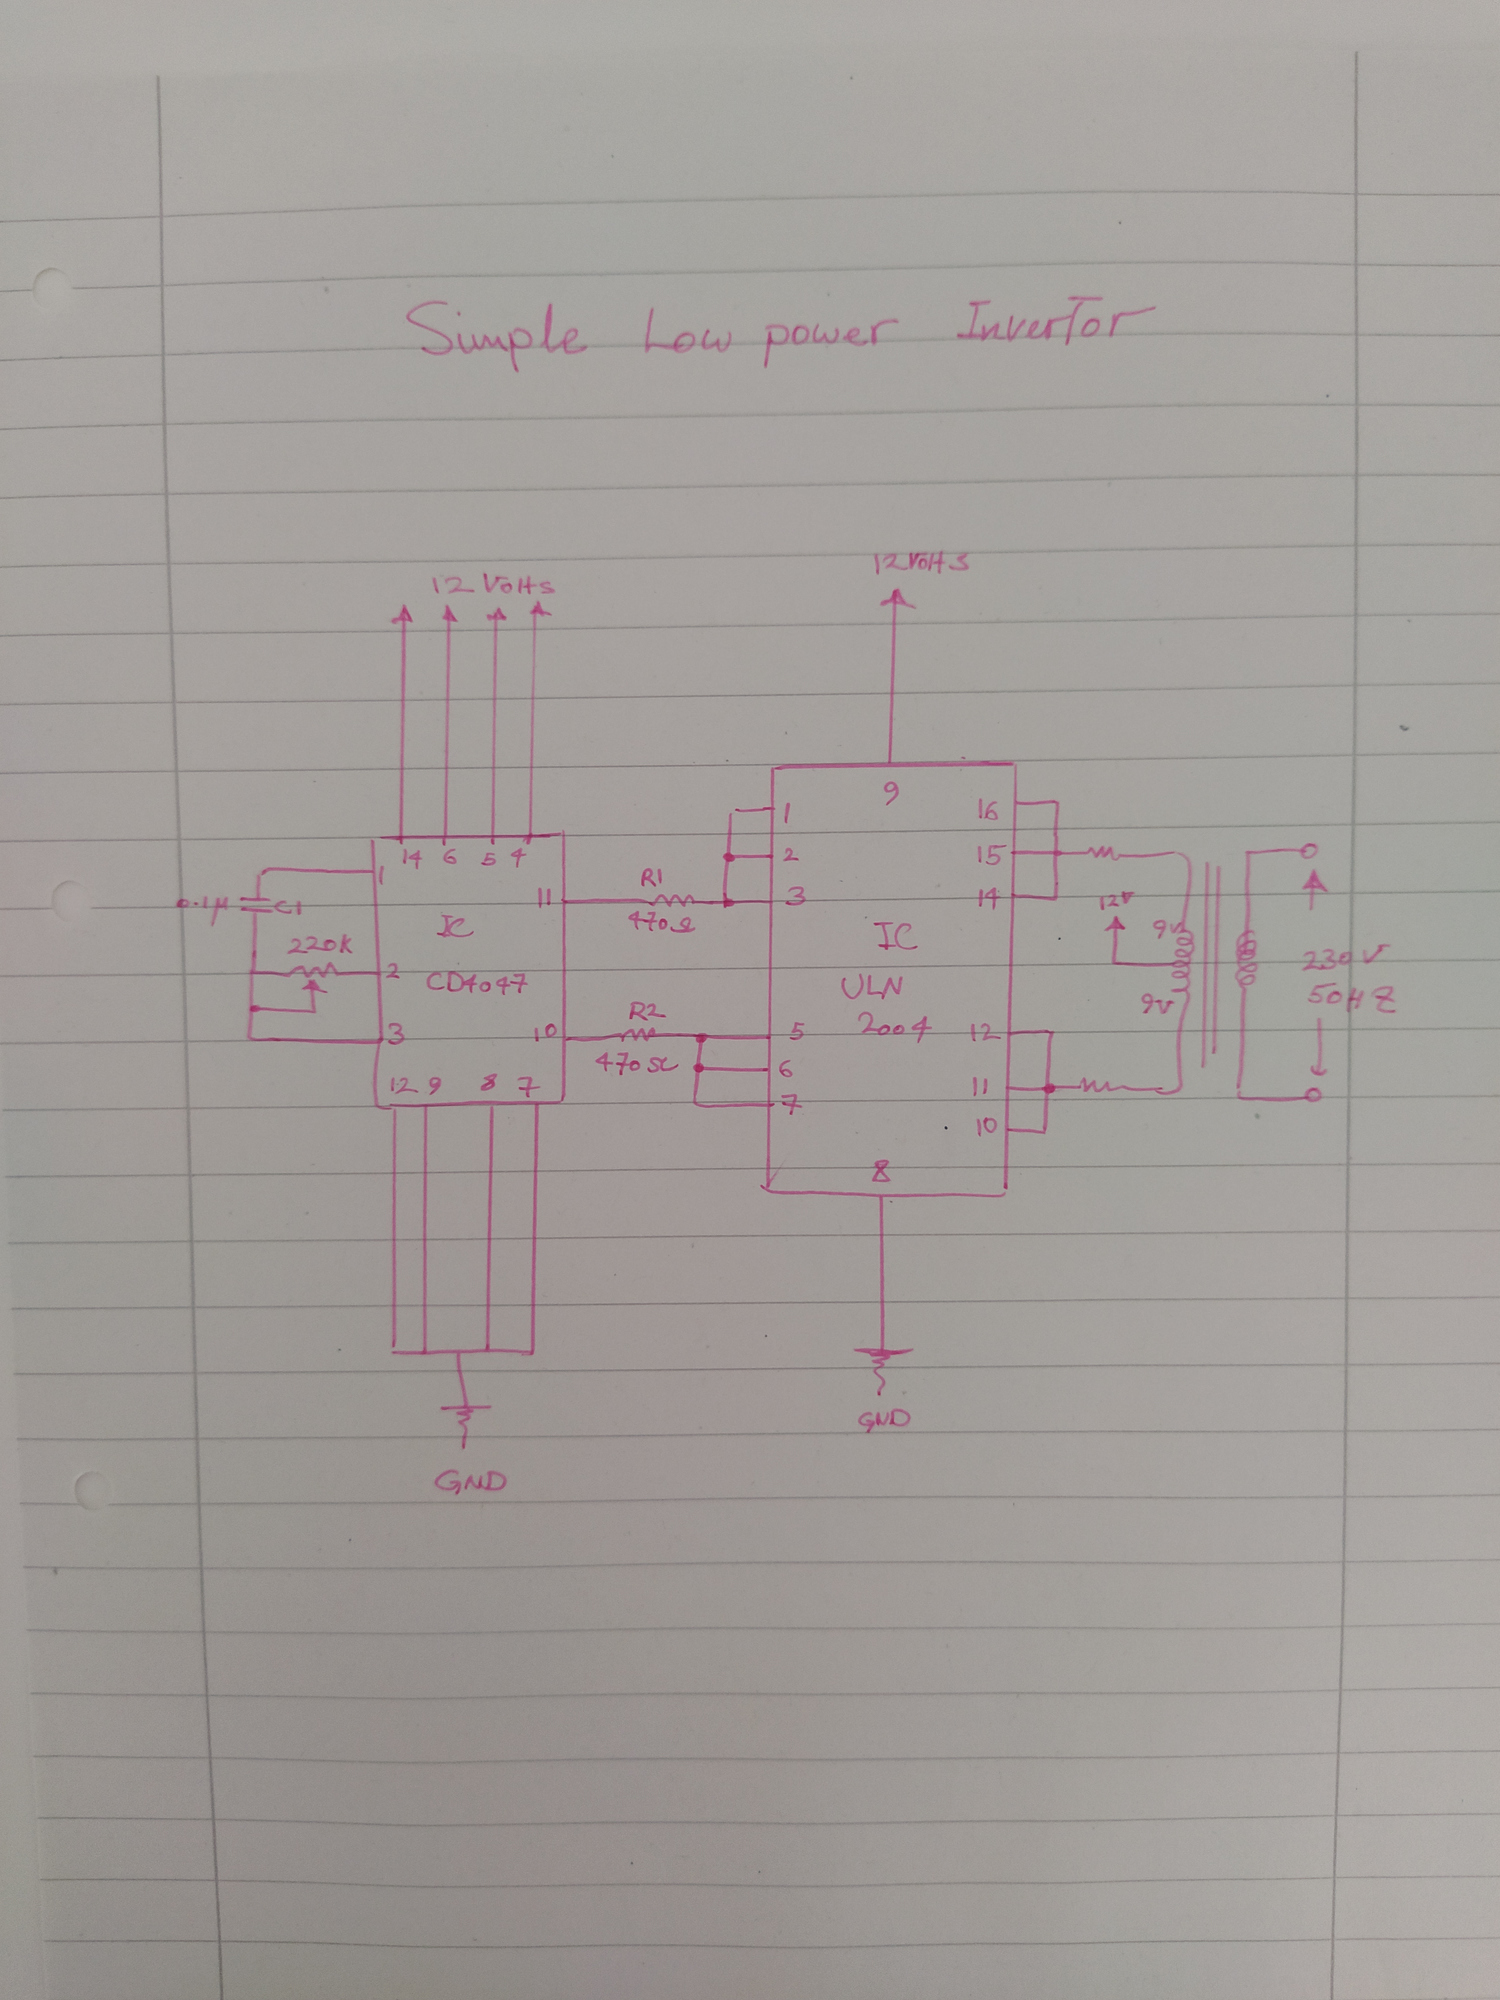capacitor.unpolarized: (236, 893, 274, 920)
gnd: (849, 1343, 915, 1397), (438, 1402, 495, 1450)
integrated_circuit: (756, 756, 1024, 1205), (364, 830, 574, 1110)
junction: (1174, 847, 1196, 863), (251, 865, 273, 880), (1038, 1080, 1057, 1098), (1168, 1082, 1188, 1098), (244, 1000, 263, 1016), (718, 894, 737, 910), (243, 1030, 258, 1047), (692, 1031, 711, 1046), (722, 850, 741, 865), (1234, 1083, 1246, 1104), (1048, 890, 1064, 906), (692, 1061, 707, 1076), (388, 1342, 402, 1357), (725, 805, 741, 819), (1049, 846, 1067, 858), (689, 1096, 703, 1110), (525, 1346, 540, 1359), (418, 1346, 433, 1359), (481, 1343, 495, 1356), (307, 1005, 321, 1017), (1242, 847, 1257, 858), (1048, 797, 1064, 808), (1038, 1124, 1051, 1137), (1043, 1027, 1057, 1038), (452, 1346, 466, 1357), (244, 965, 258, 976), (1108, 957, 1120, 969)
resistor: (1075, 1074, 1131, 1096), (638, 891, 696, 910), (1081, 841, 1125, 865), (614, 1025, 659, 1046)
resistor.adjustable: (284, 957, 343, 998)
terminal: (1294, 841, 1322, 861), (1301, 1083, 1327, 1106)
text: (399, 287, 1163, 376), (429, 570, 558, 598), (1305, 980, 1399, 1016), (870, 546, 975, 576), (1298, 940, 1393, 973), (422, 969, 529, 997), (856, 1009, 934, 1046), (594, 1049, 682, 1077), (170, 891, 232, 929), (432, 1466, 509, 1496), (837, 972, 908, 1002), (626, 909, 700, 935), (284, 931, 355, 957), (871, 917, 922, 953), (856, 1405, 912, 1436), (432, 910, 477, 940), (626, 998, 670, 1024), (1138, 991, 1174, 1017), (1097, 888, 1138, 912), (975, 841, 1008, 868), (967, 1019, 1004, 1043), (975, 883, 1004, 912), (974, 795, 1001, 824), (1152, 917, 1182, 942), (388, 1074, 421, 1094), (778, 1090, 804, 1117), (638, 865, 665, 890), (974, 1113, 999, 1139), (783, 883, 808, 909), (515, 1074, 540, 1099), (870, 1157, 893, 1184), (399, 847, 425, 871), (531, 1020, 558, 1044), (273, 898, 306, 917), (969, 1072, 991, 1098), (786, 1017, 808, 1043), (881, 780, 901, 806), (386, 1020, 407, 1047), (383, 959, 405, 983), (534, 885, 555, 910), (777, 1057, 797, 1080), (477, 1072, 499, 1093), (780, 798, 796, 827), (780, 846, 802, 865), (425, 1076, 444, 1098), (509, 847, 528, 868), (441, 846, 459, 868), (477, 850, 499, 868), (377, 863, 391, 887)
transformer: (1168, 858, 1261, 1072)
vss: (876, 584, 919, 613), (388, 602, 418, 627), (526, 598, 555, 619), (1100, 913, 1128, 934), (438, 602, 462, 625), (484, 605, 511, 624)
